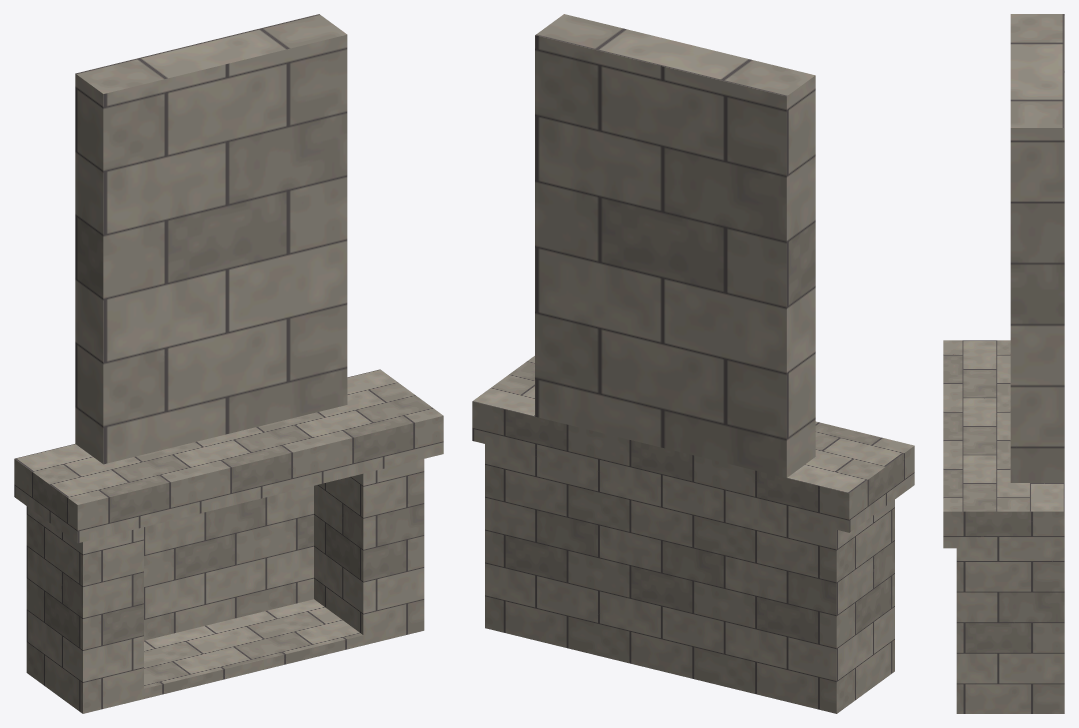
File: fireplace.obj
3 views of the same model, side by side, from view 1: azimuth 30°, elevation 25°; view 2: azimuth 150°, elevation 25°; view 3: azimuth 270°, elevation 25° (orthographic). The views are drawn at different scales.
Parts seen in each view (by area): view 1: stone; view 2: stone; view 3: stone.
Part boxes in pixels (x1=…): stone: x1=14, y1=14, x2=443, y2=713; stone: x1=472, y1=14, x2=914, y2=713; stone: x1=943, y1=14, x2=1064, y2=713.
Bounding box in the file's own units: 3 × 4.6 × 0.9.
Materials: 1 (1 with a texture image).
